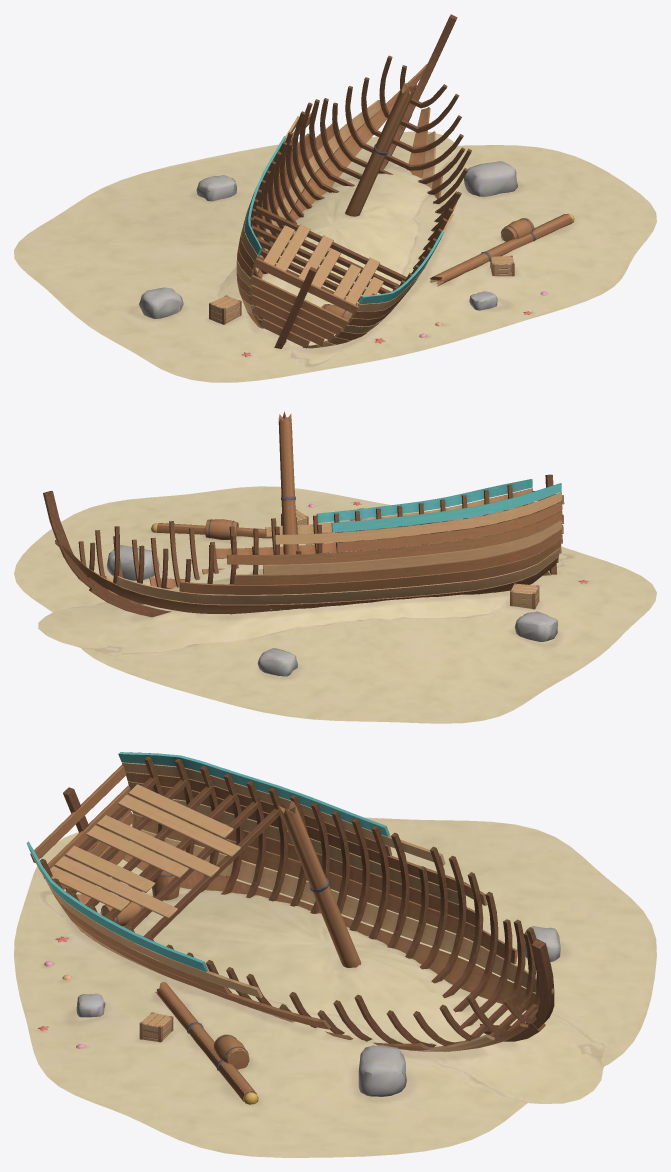
File: naufragio.glb
3 renders of one model, top to bottom at view 1: azimuth 30°, elevation 25°; view 2: azimuth 150°, elevation 25°; view 3: azimuth 270°, elevation 25°, orthographic. The views are drawn at different scales.
Parts seen in each view (by area): view 1: shipwreck_body; view 2: shipwreck_body; view 3: shipwreck_body.
Boxes of the visible parts, <box> form: shipwreck_body: <box>14,14,656,382</box>; shipwreck_body: <box>14,411,656,723</box>; shipwreck_body: <box>14,752,656,1157</box>.
Size of the model in its own units: 17.23 by 4.98 by 13.69.
1 material, 1 textured.
